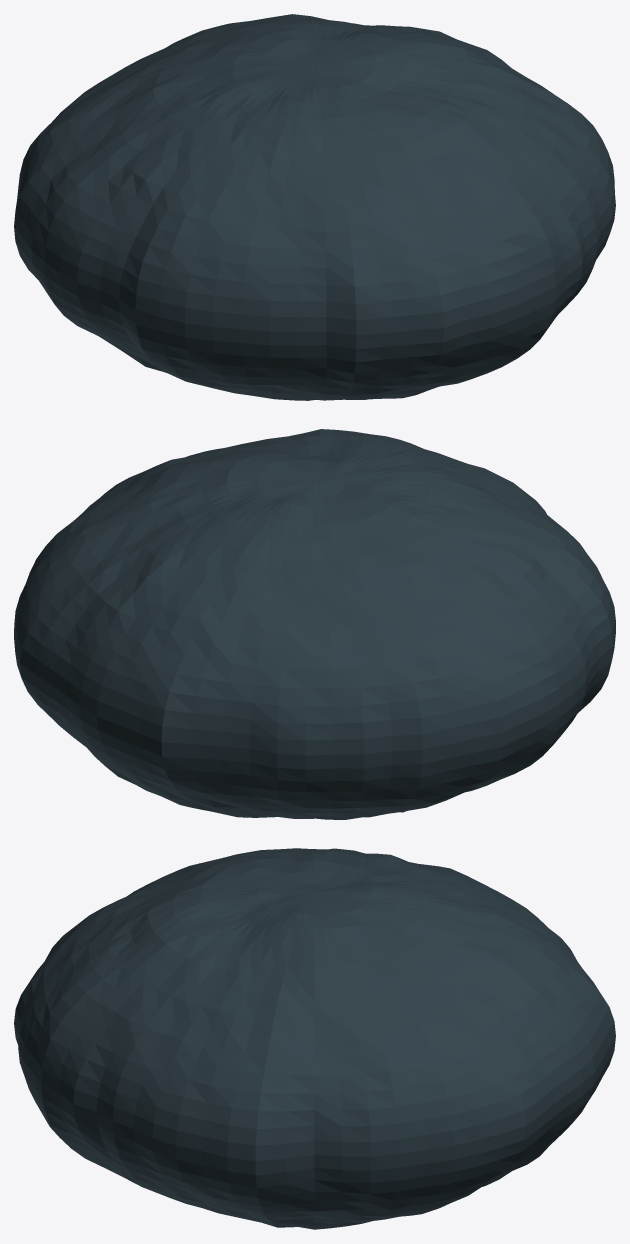
The model's file is hollow.glb.
3 views of the same model, one above another, from view 1: azimuth 30°, elevation 25°; view 2: azimuth 150°, elevation 25°; view 3: azimuth 270°, elevation 25° (orthographic). The views are drawn at different scales.
Parts seen in each view (by area): view 1: hollow_-18_-12, hollow_-17_-12, hollow_-19_-13, hollow_-18_-13, hollow_-19_-14, hollow_-17_-13, hollow_-18_-14, hollow_-16_-13, hollow_-17_-14, hollow_-19_-12, hollow_-16_-12, hollow_-18_-15 (+3 smaller); view 2: hollow_-18_-15, hollow_-17_-15, hollow_-19_-14, hollow_-18_-14, hollow_-17_-14, hollow_-19_-15, hollow_-18_-13, hollow_-19_-13, hollow_-16_-15, hollow_-16_-14, hollow_-17_-13, hollow_-18_-12 (+1 smaller); view 3: hollow_-16_-14, hollow_-16_-13, hollow_-17_-15, hollow_-17_-13, hollow_-17_-14, hollow_-16_-15, hollow_-17_-12, hollow_-16_-12, hollow_-18_-14, hollow_-18_-13, hollow_-18_-15, hollow_-18_-12.
Part boxes in pixels (x1=…): hollow_-18_-12: x1=244, y1=167, x2=443, y2=400; hollow_-17_-12: x1=395, y1=149, x2=580, y2=396; hollow_-19_-13: x1=77, y1=142, x2=249, y2=390; hollow_-18_-13: x1=166, y1=77, x2=394, y2=400; hollow_-19_-14: x1=14, y1=101, x2=165, y2=349; hollow_-17_-13: x1=315, y1=51, x2=545, y2=398; hollow_-18_-14: x1=90, y1=31, x2=304, y2=142; hollow_-16_-13: x1=451, y1=56, x2=615, y2=259; hollow_-17_-14: x1=227, y1=18, x2=447, y2=77; hollow_-19_-12: x1=213, y1=265, x2=271, y2=376; hollow_-16_-12: x1=536, y1=164, x2=603, y2=309; hollow_-18_-15: x1=52, y1=30, x2=225, y2=121; hollow_-18_-15: x1=193, y1=556, x2=408, y2=819; hollow_-17_-15: x1=51, y1=538, x2=262, y2=816; hollow_-19_-14: x1=396, y1=549, x2=585, y2=809; hollow_-18_-14: x1=257, y1=484, x2=485, y2=819; hollow_-17_-14: x1=119, y1=455, x2=343, y2=562; hollow_-19_-15: x1=361, y1=641, x2=475, y2=809; hollow_-18_-13: x1=341, y1=445, x2=567, y2=548; hollow_-19_-13: x1=485, y1=529, x2=615, y2=712; hollow_-16_-15: x1=14, y1=551, x2=118, y2=742; hollow_-16_-14: x1=19, y1=458, x2=206, y2=607; hollow_-17_-13: x1=193, y1=429, x2=424, y2=479; hollow_-18_-12: x1=427, y1=450, x2=556, y2=522; hollow_-16_-14: x1=286, y1=962, x2=475, y2=1229; hollow_-16_-13: x1=116, y1=964, x2=298, y2=1227; hollow_-17_-15: x1=447, y1=902, x2=615, y2=1171; hollow_-17_-13: x1=120, y1=882, x2=300, y2=1178; hollow_-17_-14: x1=286, y1=883, x2=473, y2=995; hollow_-16_-15: x1=443, y1=996, x2=567, y2=1202; hollow_-17_-12: x1=14, y1=916, x2=134, y2=1179; hollow_-16_-12: x1=59, y1=1013, x2=140, y2=1178; hollow_-18_-14: x1=284, y1=848, x2=468, y2=903; hollow_-18_-13: x1=116, y1=848, x2=300, y2=915; hollow_-18_-15: x1=448, y1=872, x2=582, y2=968; hollow_-18_-12: x1=24, y1=894, x2=140, y2=989.
Bounding box in the file's own units: 286 × 157 × 292.
